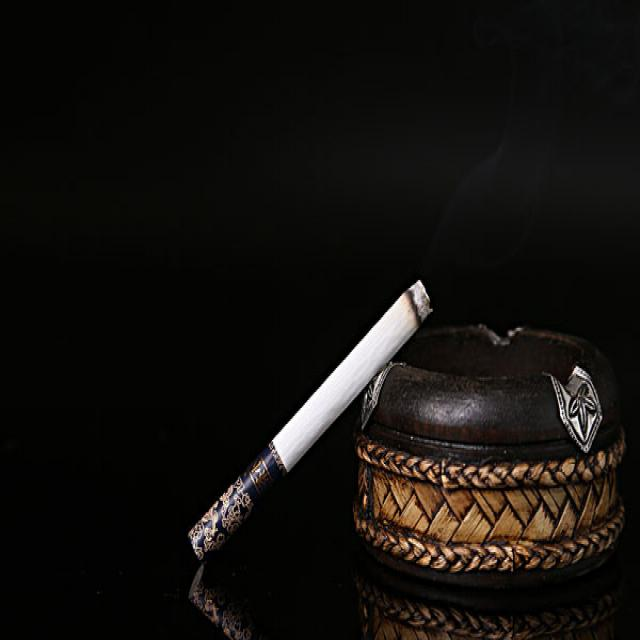smoking: (187, 280, 434, 560)
